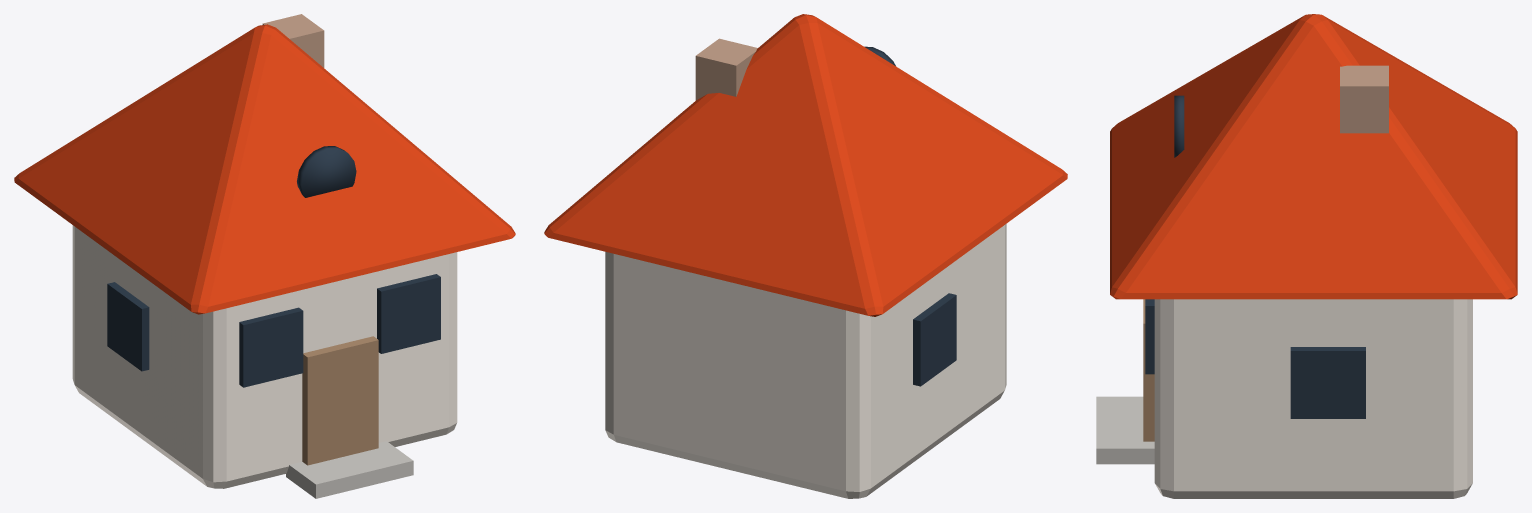
File: house.glb
3 views of the same model, side by side, from view 1: azimuth 30°, elevation 25°; view 2: azimuth 150°, elevation 25°; view 3: azimuth 270°, elevation 25° (orthographic). The views are drawn at different scales.
Parts seen in each view (by area): view 1: HRoof, HBody, HDoor, HWinF6, HWinF6.001, HStep, HWinS2, HWinGable, HChimney; view 2: HRoof, HBody, HWinS2, HChimney; view 3: HRoof, HBody, HWinS1, HStep, HChimney, HDoor, HWinF6.001, HWinGable.
Part boxes in pixels (<box>): HRoof: <box>14,24,515,314</box>; HBody: <box>72,225,457,488</box>; HDoor: <box>302,336,378,465</box>; HWinF6: <box>239,307,303,387</box>; HWinF6.001: <box>377,274,440,353</box>; HStep: <box>286,441,413,498</box>; HWinS2: <box>107,282,149,371</box>; HWinGable: <box>297,146,356,197</box>; HChimney: <box>262,14,324,67</box>; HRoof: <box>544,14,1067,316</box>; HBody: <box>605,224,1006,498</box>; HWinS2: <box>913,293,956,386</box>; HChimney: <box>695,38,757,100</box>; HRoof: <box>1110,14,1517,299</box>; HBody: <box>1154,299,1472,498</box>; HWinS1: <box>1290,347,1365,418</box>; HStep: <box>1096,396,1154,464</box>; HChimney: <box>1340,65,1388,133</box>; HDoor: <box>1143,299,1154,441</box>; HWinF6.001: <box>1145,299,1154,374</box>; HWinGable: <box>1174,95,1184,157</box>.
Bounding box in the file's own units: 2.82 × 3.23 × 2.92.
